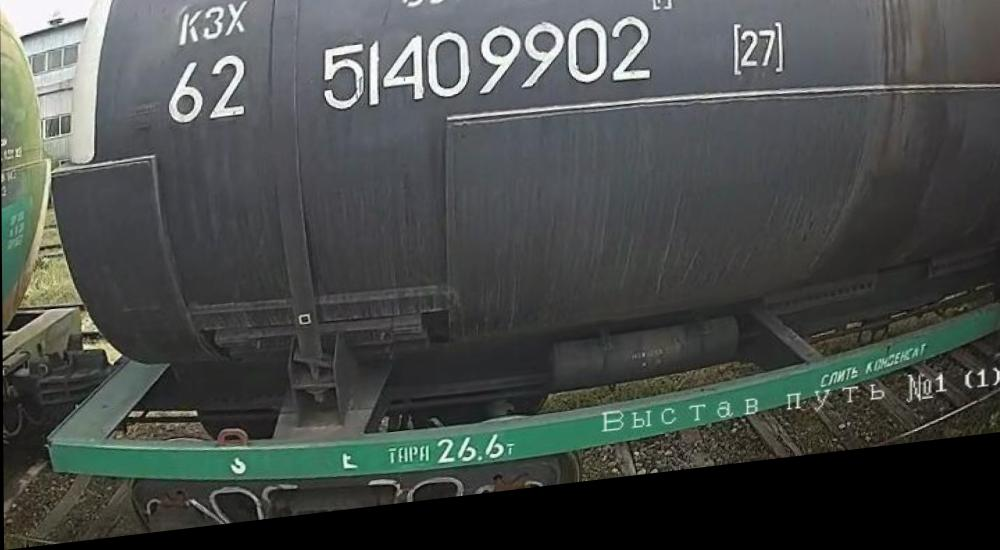Wagon-number: (319, 18, 656, 131)
